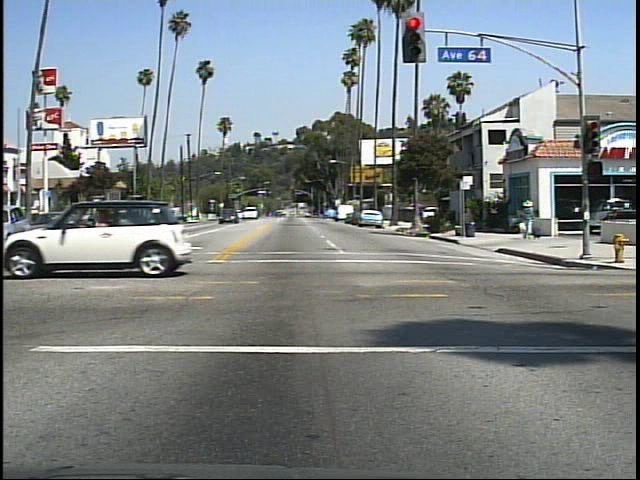person: (516, 194, 541, 243)
